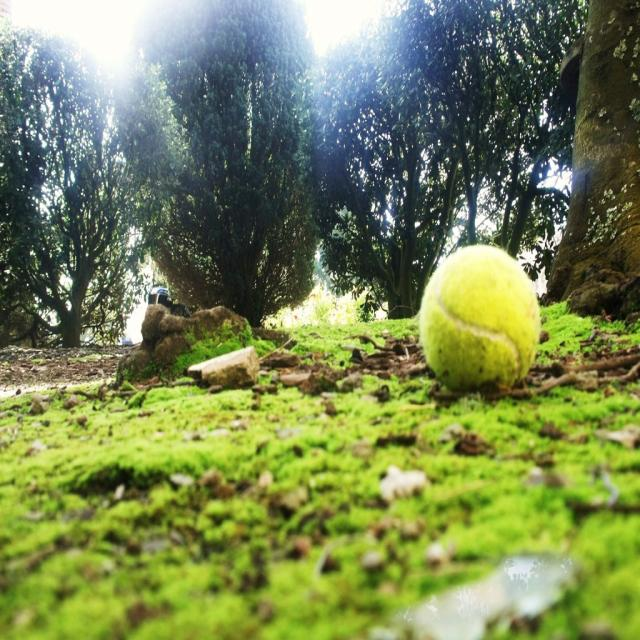Tennis ball: (419, 244, 539, 394)
